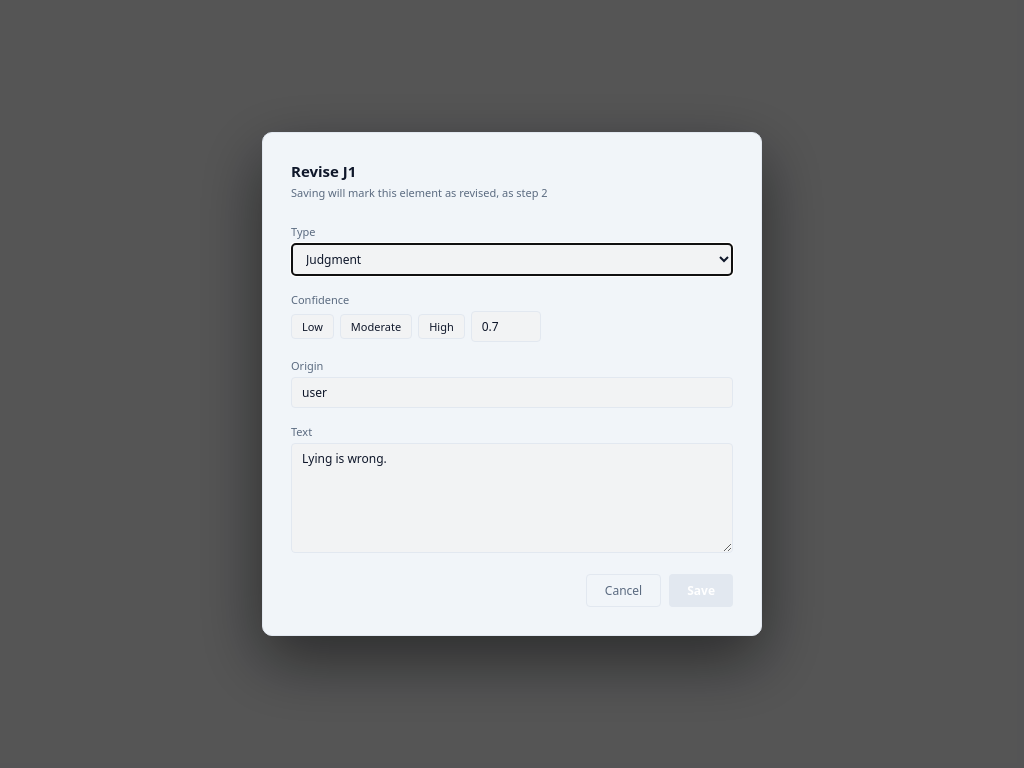
Test: EditModal › offers Save only once a field has changed, and not once it is changed back
Expected: the button "Save" is disabled, 669,574 -> 733,607
Replace the text in the text box showing "Lying is wrong." with "Lying is usually wrong." at (512, 498), box 291,443 -> 733,553
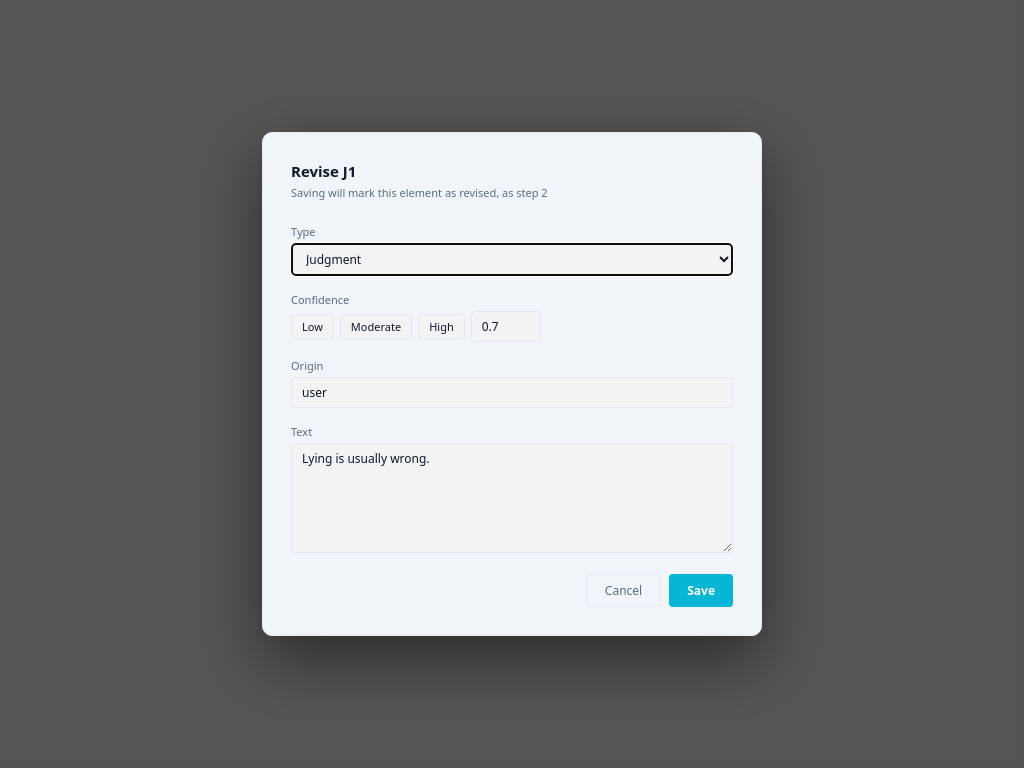
Result: the button "Save" is enabled at 669,574 -> 733,607
Replace the text in the text box showing "Lying is usually wrong." with "Lying is wrong." at (512, 498), box 291,443 -> 733,553
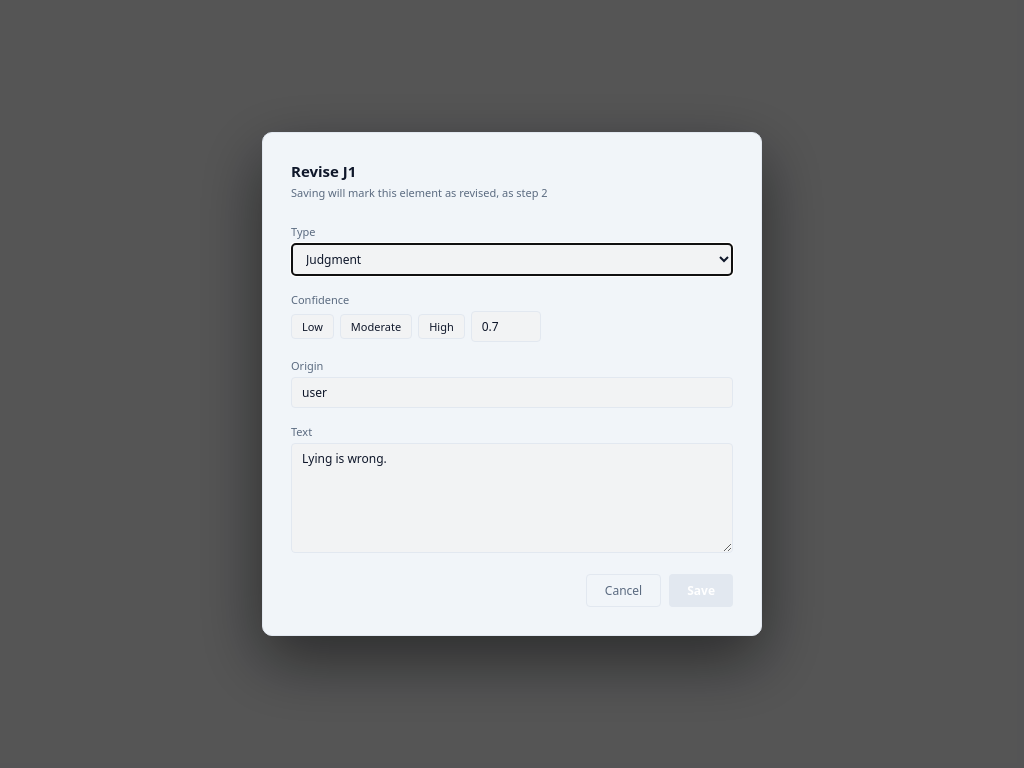
Result: the button "Save" is disabled at 669,574 -> 733,607
